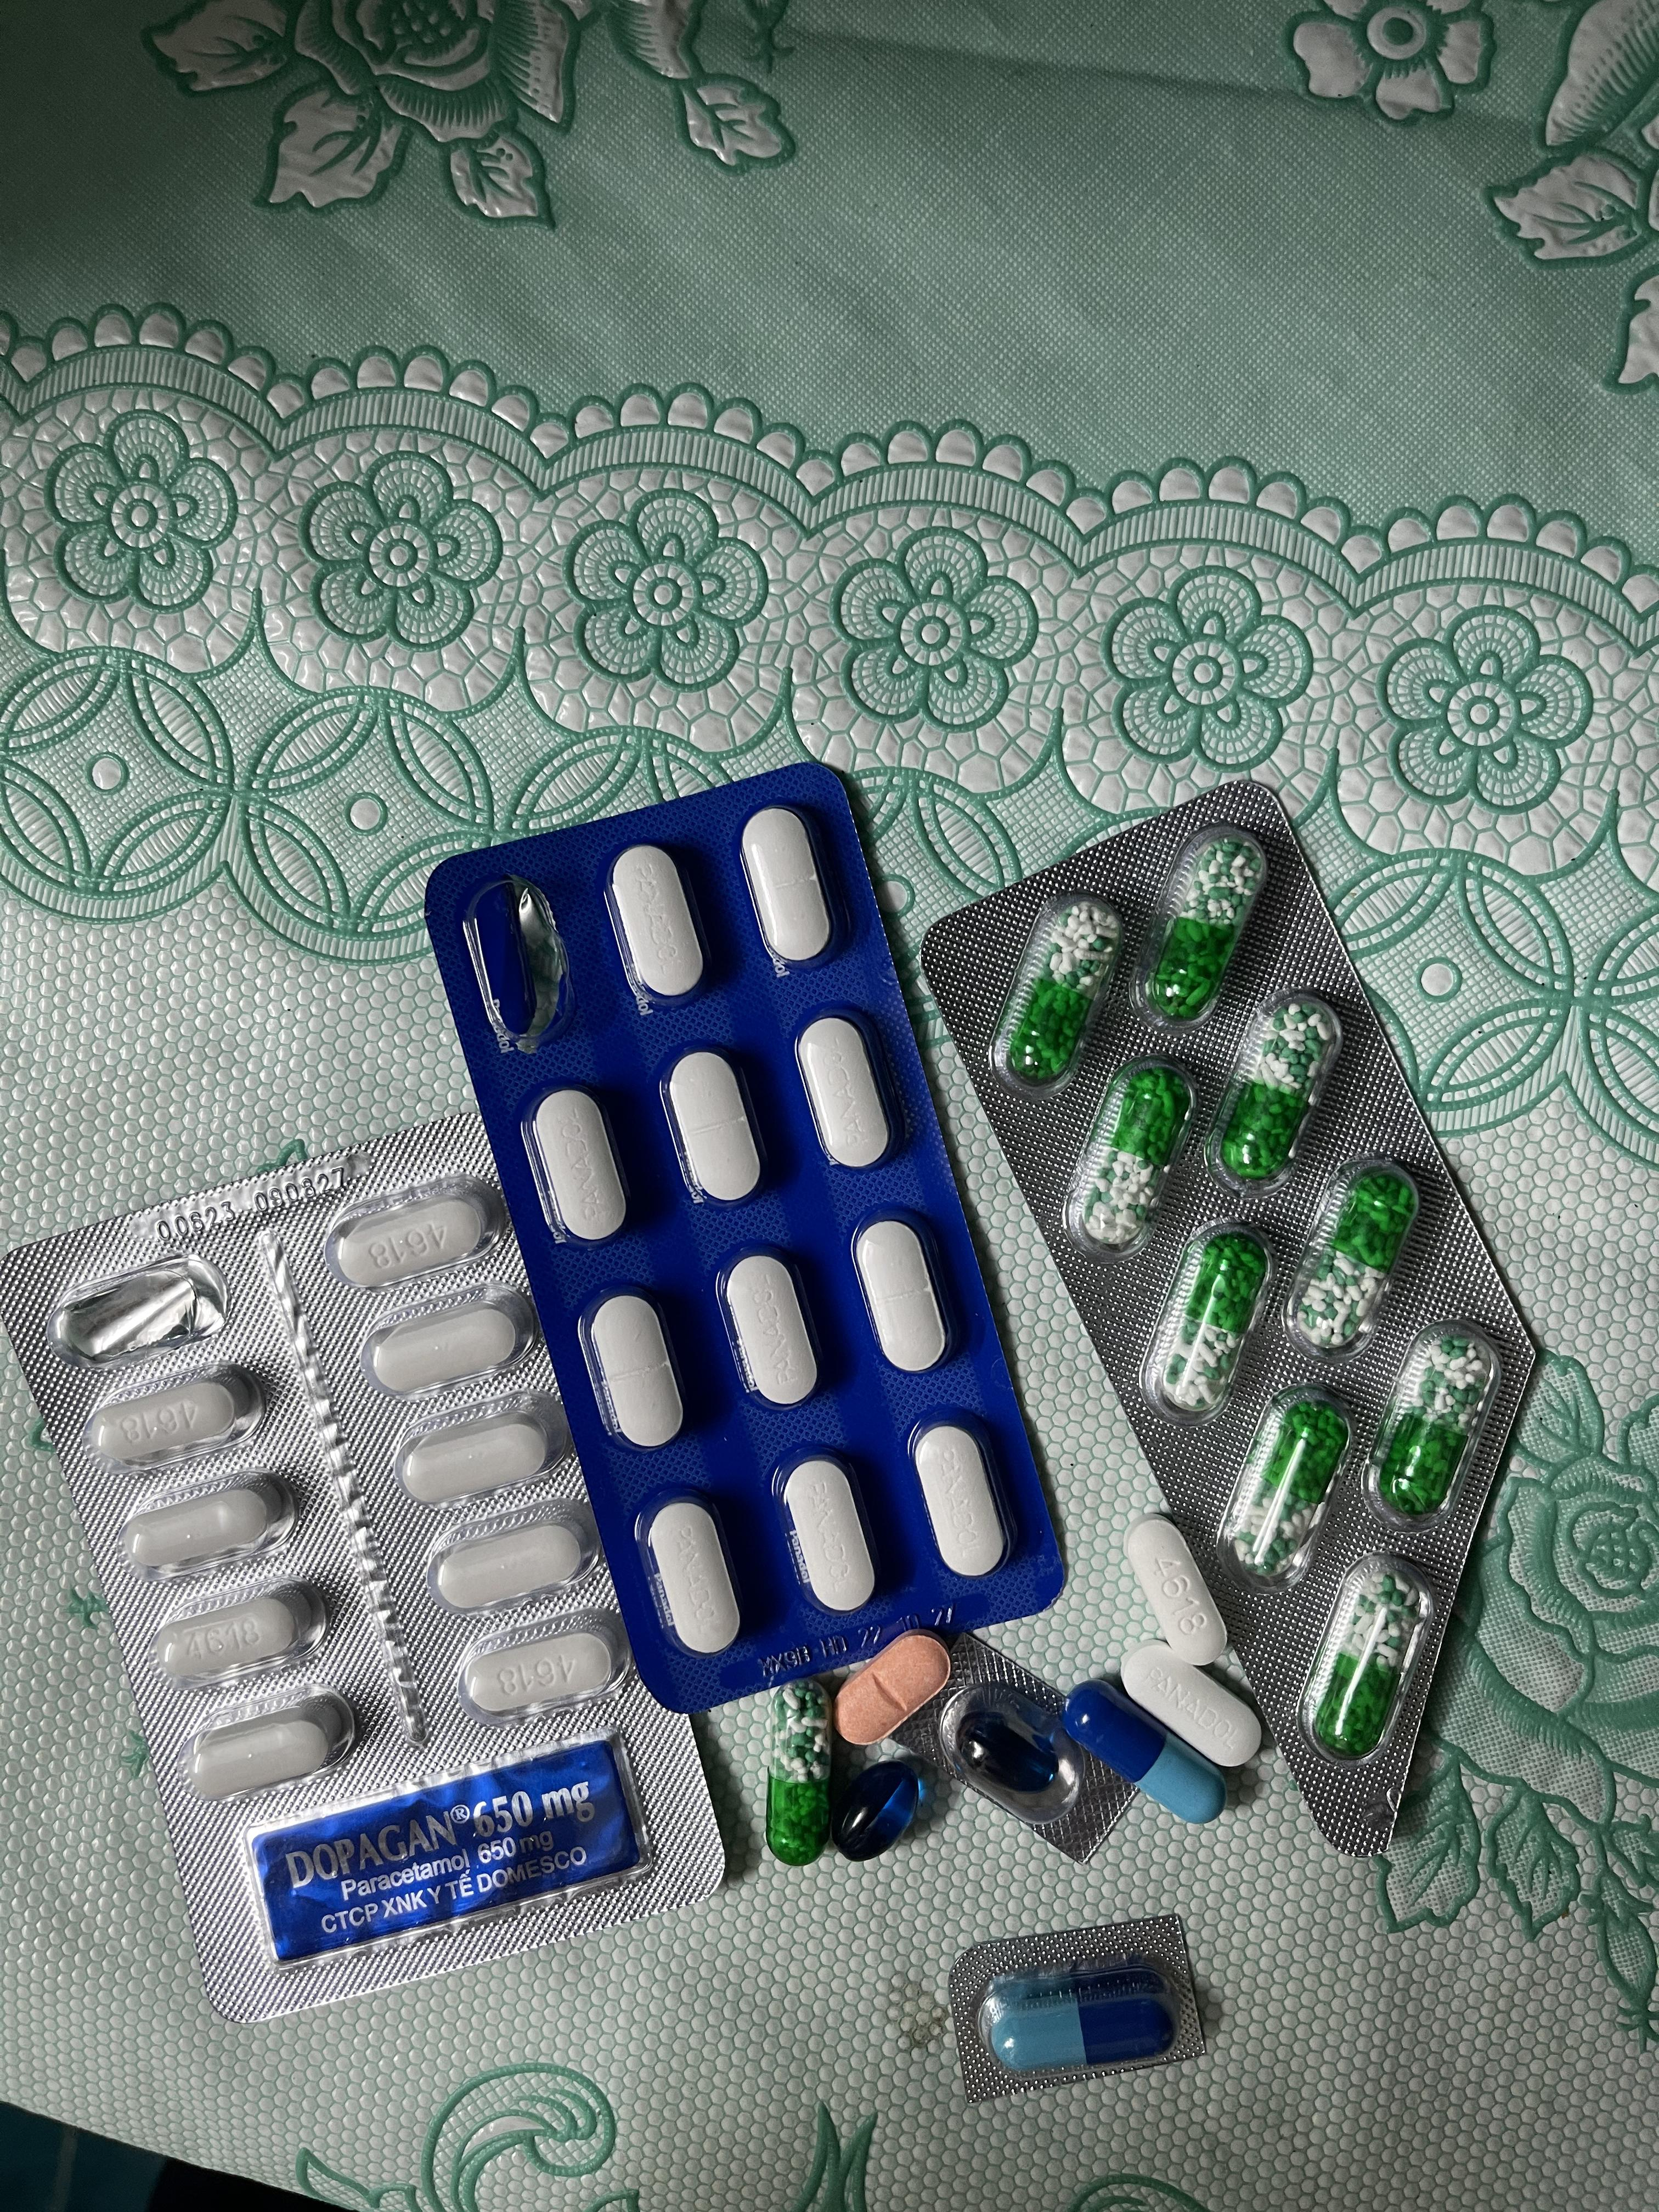Lincomyxin_500mg: (830, 1757, 920, 1860), (962, 1705, 1060, 1794)
Loratadine_10mg: (835, 1630, 946, 1742)
Paracetamol_350mg: (1119, 1644, 1262, 1771), (908, 1414, 1011, 1580), (608, 845, 711, 1007), (774, 1451, 877, 1613), (643, 1494, 744, 1656), (528, 1090, 633, 1245), (798, 1015, 901, 1172), (584, 1292, 685, 1451), (662, 1052, 765, 1207), (852, 1214, 951, 1374), (721, 1252, 819, 1407), (741, 808, 836, 963)
Paracetamol_500mg: (78, 1362, 265, 1472), (150, 1578, 326, 1693), (119, 1474, 296, 1587), (362, 1285, 535, 1400), (185, 1691, 357, 1803), (425, 1501, 596, 1611), (326, 1181, 493, 1289), (460, 1613, 627, 1721), (1124, 1519, 1232, 1662), (401, 1418, 558, 1508)
Paracetamol_650mg: (1295, 1165, 1420, 1346), (999, 897, 1119, 1085), (1218, 1005, 1342, 1186), (1314, 1566, 1425, 1754), (1147, 841, 1262, 1021), (1378, 1343, 1493, 1517), (1162, 1233, 1270, 1414), (1080, 1069, 1187, 1247), (1232, 1406, 1345, 1569), (763, 1677, 831, 1867)
pill: (1070, 1672, 1227, 1827), (983, 1958, 1176, 2073)
